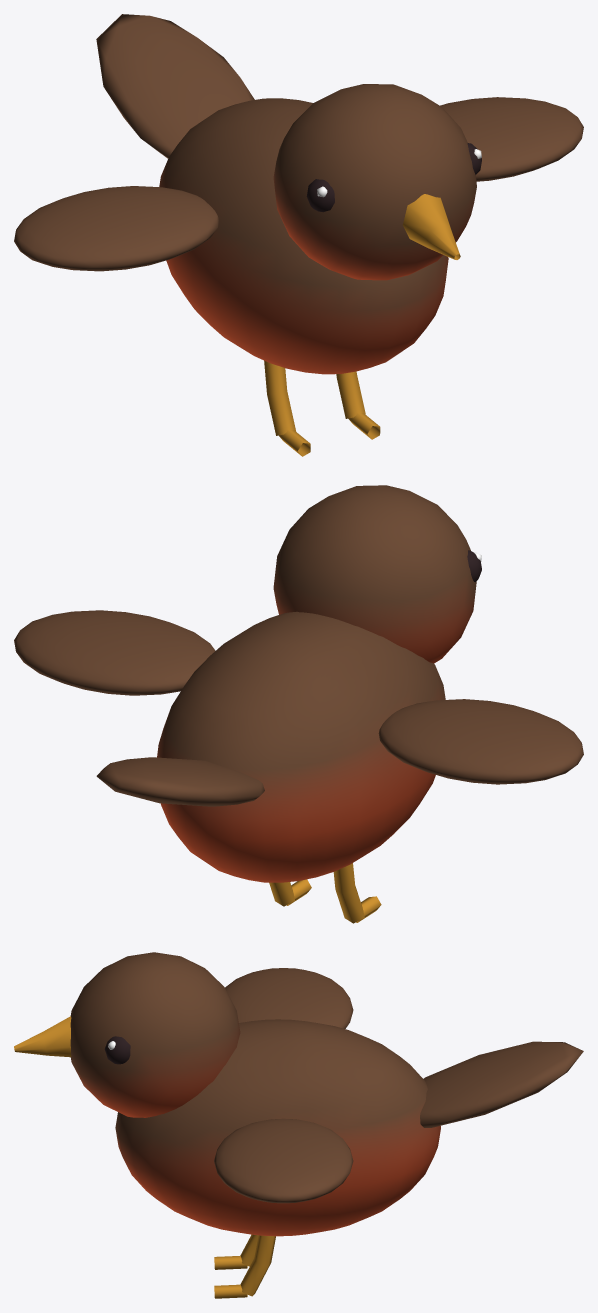
Rendered from critter_robin.glb.
3 views of the same model, one above another, from view 1: azimuth 30°, elevation 25°; view 2: azimuth 150°, elevation 25°; view 3: azimuth 270°, elevation 25° (orthographic). The views are drawn at different scales.
Parts seen in each view (by area): view 1: robin_body, robin_wing_l, robin_wing_r, robin_eye_l; view 2: robin_body, robin_wing_l, robin_wing_r; view 3: robin_body, robin_wing_r, robin_wing_l, robin_eye_r.
Boxes of the visible parts, x1=… form: robin_body: x1=96, y1=14, x2=476, y2=456; robin_wing_l: x1=14, y1=186, x2=218, y2=271; robin_wing_r: x1=440, y1=97, x2=583, y2=181; robin_eye_l: x1=306, y1=179, x2=334, y2=212; robin_body: x1=96, y1=485, x2=476, y2=923; robin_wing_l: x1=378, y1=699, x2=583, y2=784; robin_wing_r: x1=14, y1=610, x2=215, y2=695; robin_body: x1=14, y1=952, x2=583, y2=1298; robin_wing_r: x1=214, y1=1118, x2=353, y2=1203; robin_wing_l: x1=225, y1=968, x2=353, y2=1028; robin_eye_r: x1=104, y1=1036, x2=130, y2=1064.
Size of the model in its own units: 0.35 by 0.2303 by 0.3675.
